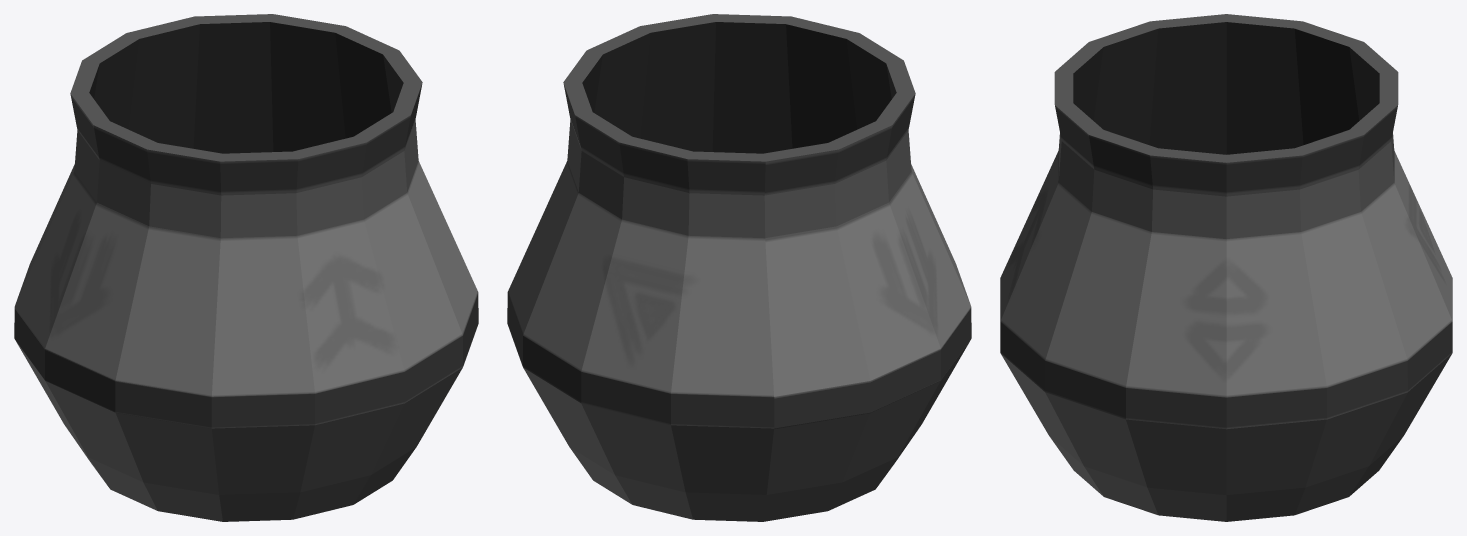
Rendered from Mesh_Pot_TL.fbx.
3 renders of one model, left to right at view 1: azimuth 30°, elevation 25°; view 2: azimuth 150°, elevation 25°; view 3: azimuth 270°, elevation 25°, orthographic.
Visible parts, largest first — view 1: Mesh_Pot_TL; view 2: Mesh_Pot_TL; view 3: Mesh_Pot_TL.
Boxes of the visible parts, x1,y1,x2,y2 form: Mesh_Pot_TL: [14, 14, 478, 521]; Mesh_Pot_TL: [507, 14, 971, 521]; Mesh_Pot_TL: [1000, 14, 1452, 521].
Bounding box in the file's own units: 102 × 88.9 × 99.2.
